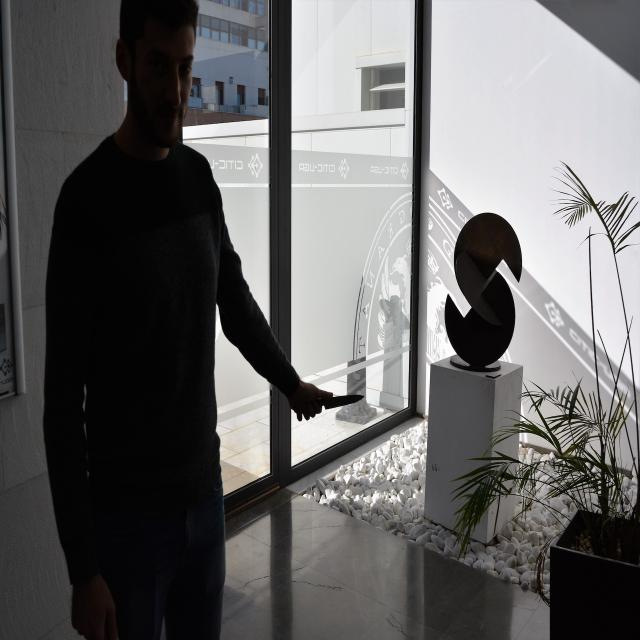knife: (325, 391, 366, 411)
